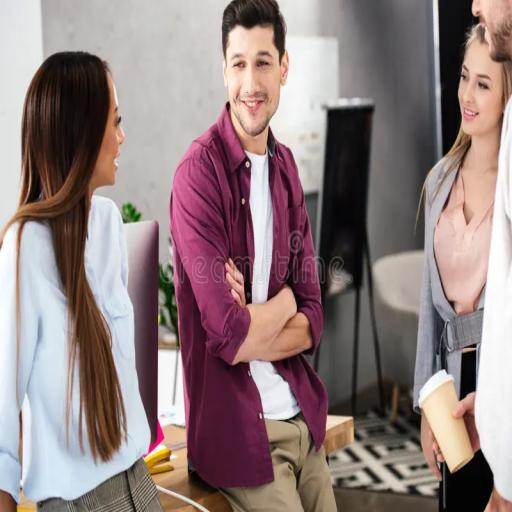person: (168, 0, 338, 511), (0, 49, 164, 511), (412, 20, 511, 511), (456, 0, 512, 512)
